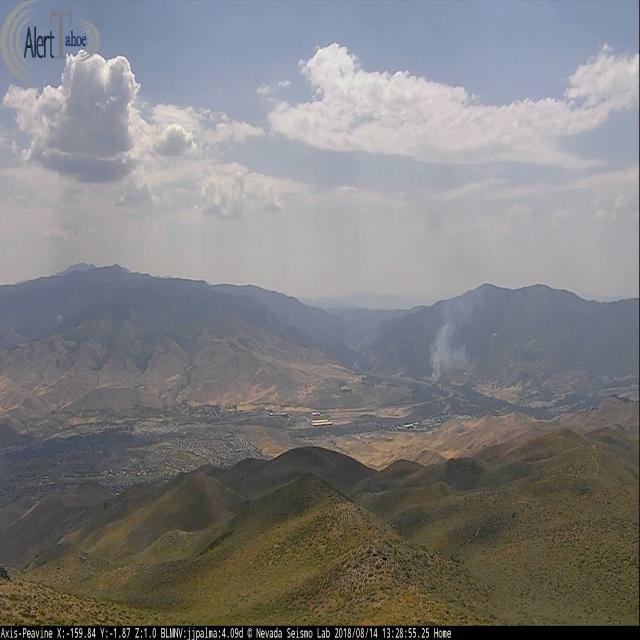smoke: (431, 290, 474, 388)
